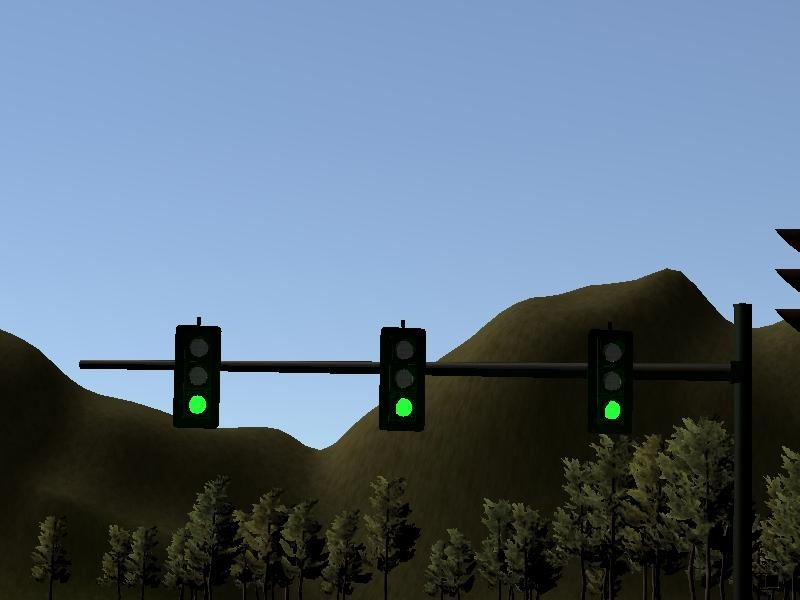GREEN: (378, 328, 426, 431), (172, 324, 220, 427), (587, 331, 636, 430)
